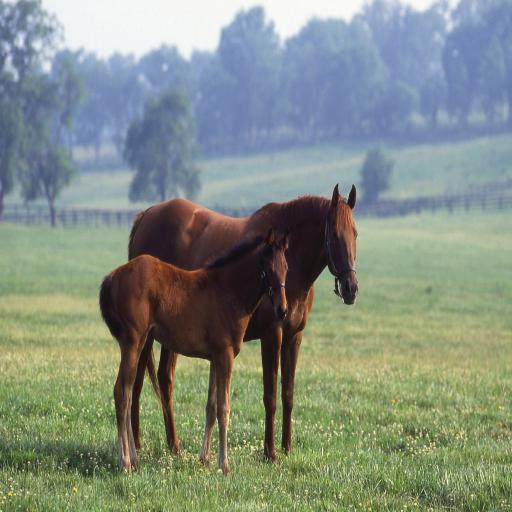horse: (128, 184, 360, 462), (97, 227, 291, 476)
